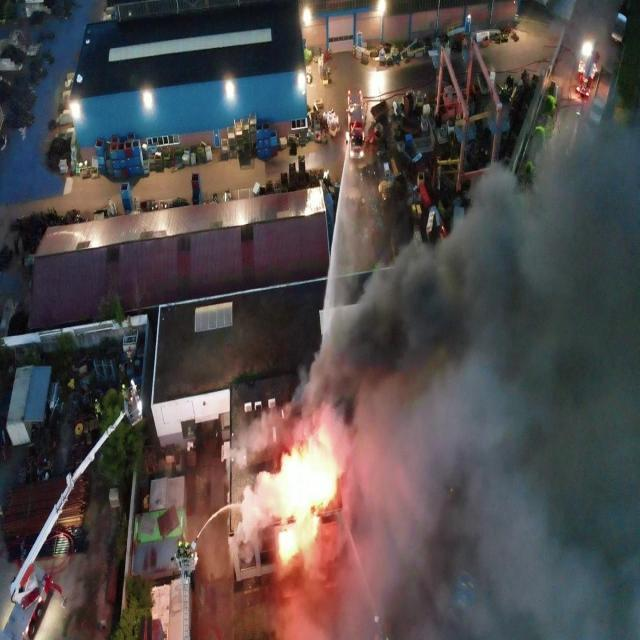Fire: (274, 451, 332, 516), (278, 531, 296, 557), (312, 517, 320, 536)
Smoke: (224, 100, 640, 637)
